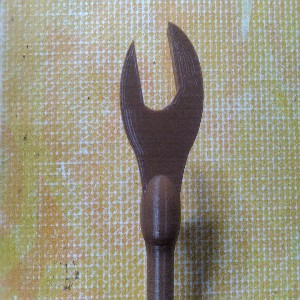spanner: (117, 22, 205, 300)
